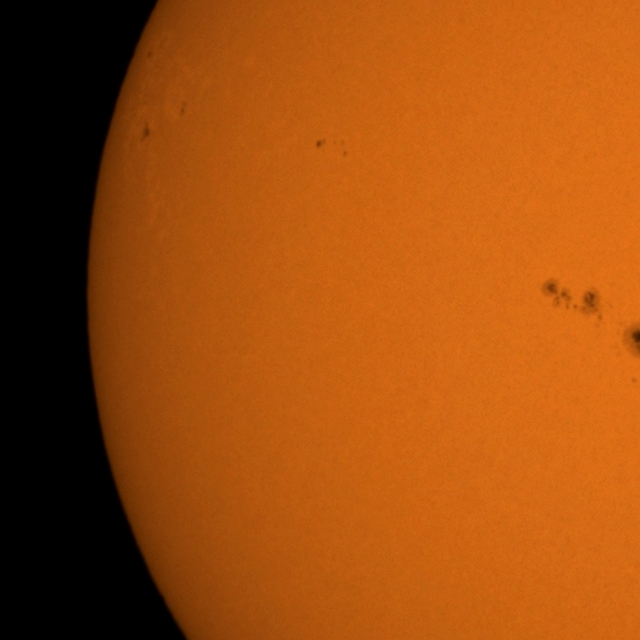sunspot: (540, 278, 604, 318), (314, 137, 350, 158), (138, 122, 152, 144), (177, 99, 189, 118), (314, 138, 326, 150), (630, 376, 640, 385)
